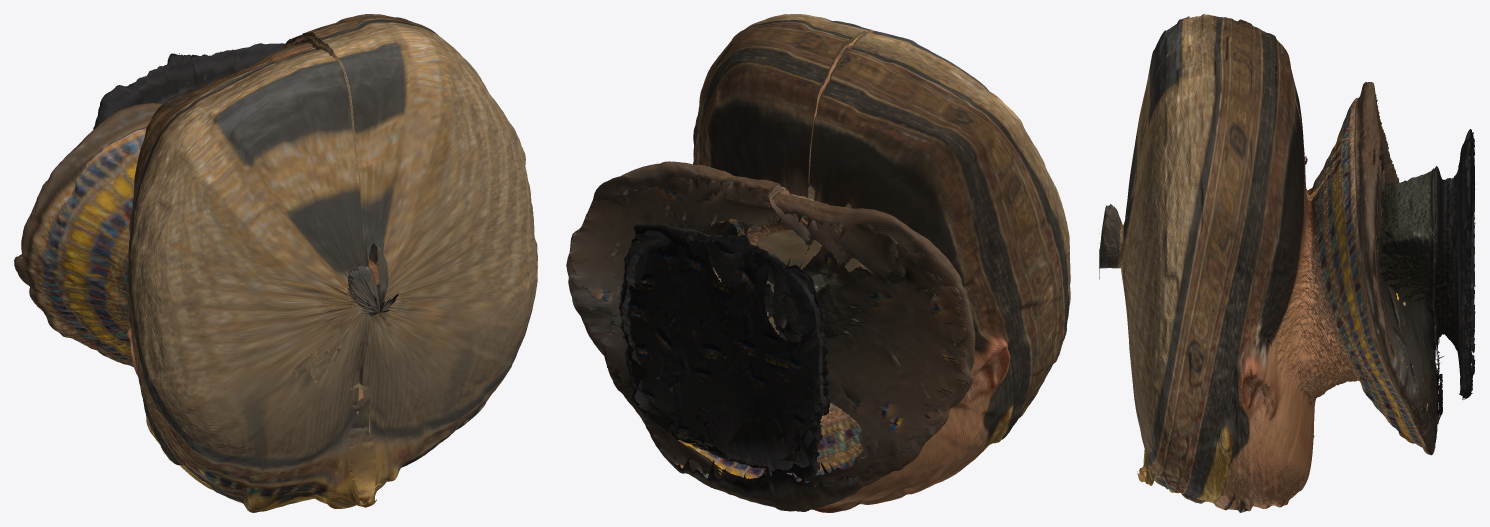
The model's file is mesh_inpaint.glb.
3 views of the same model, side by side, from view 1: azimuth 30°, elevation 25°; view 2: azimuth 150°, elevation 25°; view 3: azimuth 270°, elevation 25° (orthographic). The views are drawn at different scales.
Visible parts, largest first — view 1: ipn, fill; view 2: ipn, fill; view 3: ipn, fill.
Part boxes in pixels (x1=…): ipn: x1=14, y1=14, x2=537, y2=512; fill: x1=179, y1=53, x2=381, y2=504; ipn: x1=566, y1=14, x2=1070, y2=512; fill: x1=569, y1=176, x2=970, y2=488; ipn: x1=1099, y1=14, x2=1471, y2=512; fill: x1=1139, y1=94, x2=1475, y2=479.
Size of the model in its own units: 1.83 by 1.97 by 1.44.
2 materials, 1 textured.
